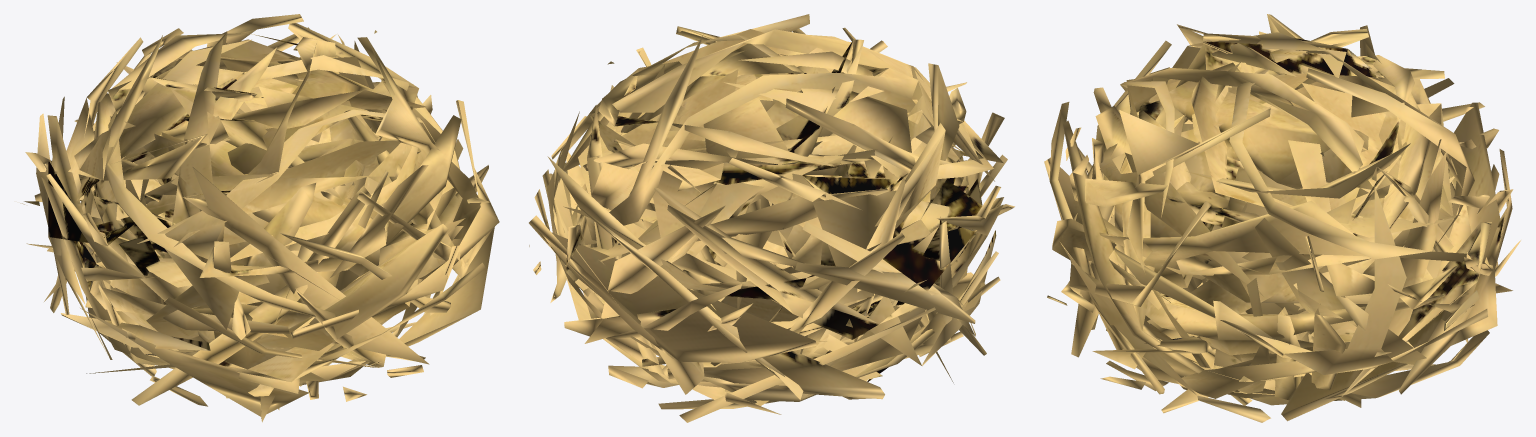
File: Tumbleweed.fbx
3 renders of one model, left to right at view 1: azimuth 30°, elevation 25°; view 2: azimuth 150°, elevation 25°; view 3: azimuth 270°, elevation 25°, orthographic. The views are drawn at different scales.
Visible parts, largest first — view 1: mesh_node; view 2: mesh_node; view 3: mesh_node.
Boxes of the visible parts, left/top/right/bottom form: mesh_node: left=20, top=14, right=499, bottom=422; mesh_node: left=529, top=14, right=1014, bottom=422; mesh_node: left=1044, top=14, right=1520, bottom=422.
Bounding box in the file's own units: 99.22 × 81.25 × 99.61.
1 material, 1 textured.
